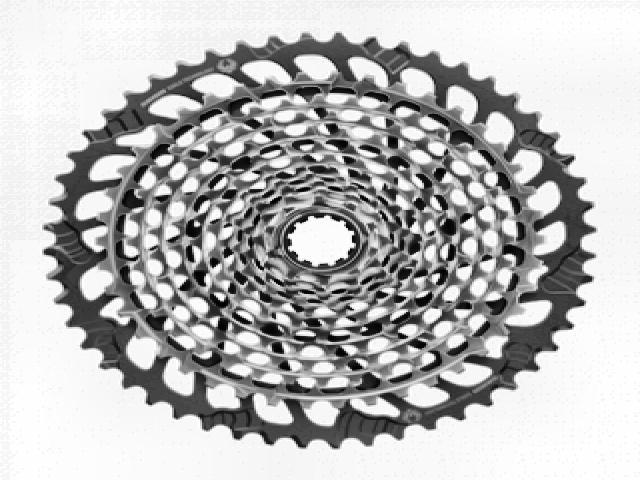cassette: (43, 30, 599, 449)
